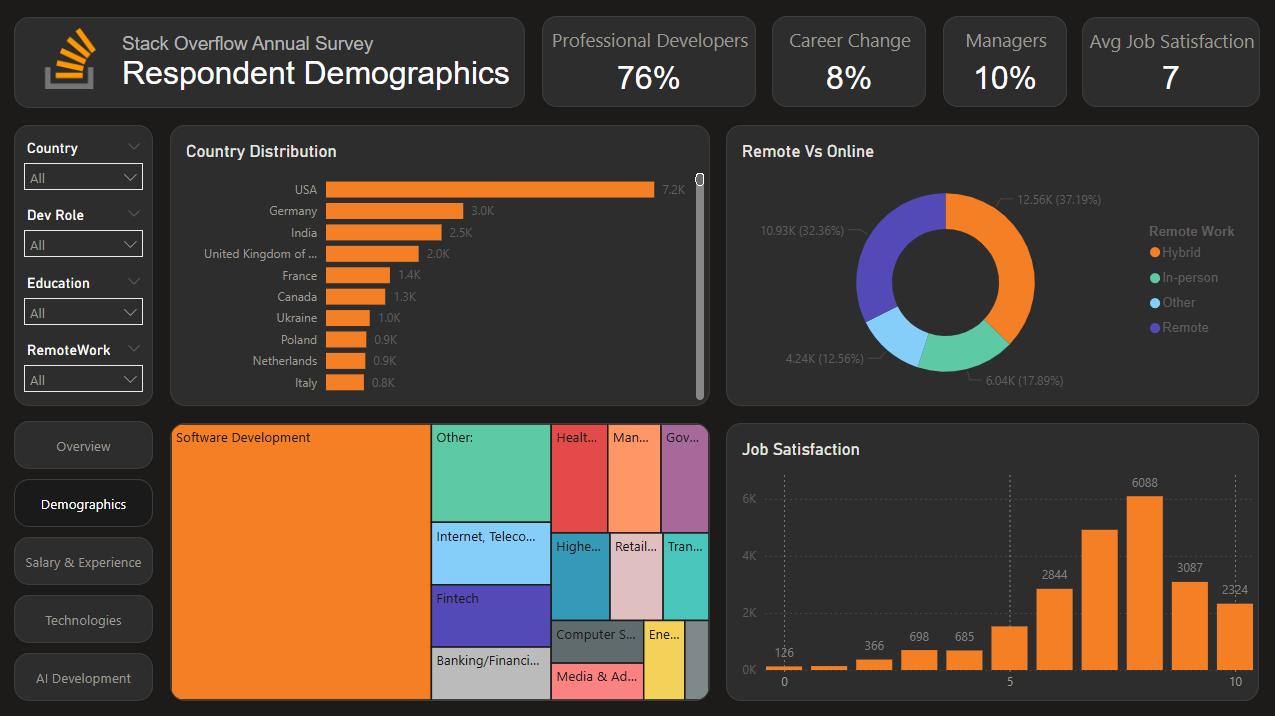

The dashboard page shown, as its layout file describes it:
{"tool":"powerbi","page":{"name":"Demographics","canvas":[1280,720],"ordinal":1},"visuals":[{"type":"barChart","title":"Country Distribution","fields":{"Y":["Count(Survey.ResponseId)"],"Category":["Survey.Country"]},"box":[173,126,540,281],"z":0},{"type":"donutChart","title":"Remote Vs Online","fields":{"Y":["CountNonNull(Survey.ResponseId)"],"Series":["Survey.RemoteWork_Clean"]},"box":[728.5,126.4,534,280.1],"z":1000},{"type":"treemap","title":"Industry","fields":{"Values":["Count(Survey.ResponseId)"],"Group":["Survey.Industry"]},"box":[173,424,540,278],"z":2000},{"type":"clusteredColumnChart","title":"Job Satisfaction","fields":{"Category":["Survey.JobSat"],"Y":["Count(Survey.ResponseId)"]},"box":[728.5,424.1,534,278.2],"z":3000},{"type":"card","title":"Professional Developers","fields":{"Values":["Survey.Percentage of Professional Developers"]},"box":[544.7,16.7,214,91.3],"z":4000},{"type":"card","title":"Avg Job Satisfaction","fields":{"Values":["Avg(Survey.JobSat)"]},"box":[1085,18,178,90],"z":5000},{"type":"card","title":"Managers","fields":{"Values":["Survey.PeopleManager_Percentage"]},"box":[946,16.7,124,91.3],"z":6000},{"type":"card","title":"Career Change","fields":{"Values":["Survey.CareerChange_Percentage"]},"box":[775.3,16.7,154,91.3],"z":7000},{"type":"shape","box":[16.5,17.5,511.6,91.4],"z":8000},{"type":"pageNavigator","box":[16.7,422.2,138.9,281.1],"z":19000},{"type":"shape","box":[17,126,139,281],"z":20000},{"type":"slicer","title":"Age Distribution","fields":{"Values":["Survey.Country"]},"box":[17.3,141.5,138.4,50],"z":21000},{"type":"slicer","title":"Age Distribution","fields":{"Values":["Survey.DevType"]},"box":[17.3,208.3,138.4,50.5],"z":22000},{"type":"slicer","title":"Age Distribution","fields":{"Values":["Survey.Education_level"]},"box":[17.3,275.7,138.4,50],"z":23000},{"type":"slicer","title":"Age Distribution","fields":{"Values":["Survey.RemoteWork_Clean"]},"box":[17.3,342.5,138.4,50],"z":24000},{"type":"textbox","box":[120,29,399,73],"z":25000},{"type":"image","box":[38.1,28.9,70.1,60.8],"z":26000}]}

Visuals, with their boxes in screenshot pixels (x1, y1, x2, y2), scaled from the page's 1280x720 canvas onto the 1275x716 screenshot:
"Country Distribution" barChart: (x1=172, y1=125, x2=710, y2=405)
"Remote Vs Online" donutChart: (x1=726, y1=126, x2=1258, y2=404)
"Industry" treemap: (x1=172, y1=422, x2=710, y2=698)
"Job Satisfaction" clusteredColumnChart: (x1=726, y1=422, x2=1258, y2=698)
"Professional Developers" card: (x1=543, y1=17, x2=756, y2=107)
"Avg Job Satisfaction" card: (x1=1081, y1=18, x2=1258, y2=107)
"Managers" card: (x1=942, y1=17, x2=1066, y2=107)
"Career Change" card: (x1=772, y1=17, x2=926, y2=107)
shape: (x1=16, y1=17, x2=526, y2=108)
pageNavigator: (x1=17, y1=420, x2=155, y2=699)
shape: (x1=17, y1=125, x2=155, y2=405)
"Age Distribution" slicer: (x1=17, y1=141, x2=155, y2=190)
"Age Distribution" slicer: (x1=17, y1=207, x2=155, y2=257)
"Age Distribution" slicer: (x1=17, y1=274, x2=155, y2=324)
"Age Distribution" slicer: (x1=17, y1=341, x2=155, y2=390)
textbox: (x1=120, y1=29, x2=517, y2=101)
image: (x1=38, y1=29, x2=108, y2=89)
